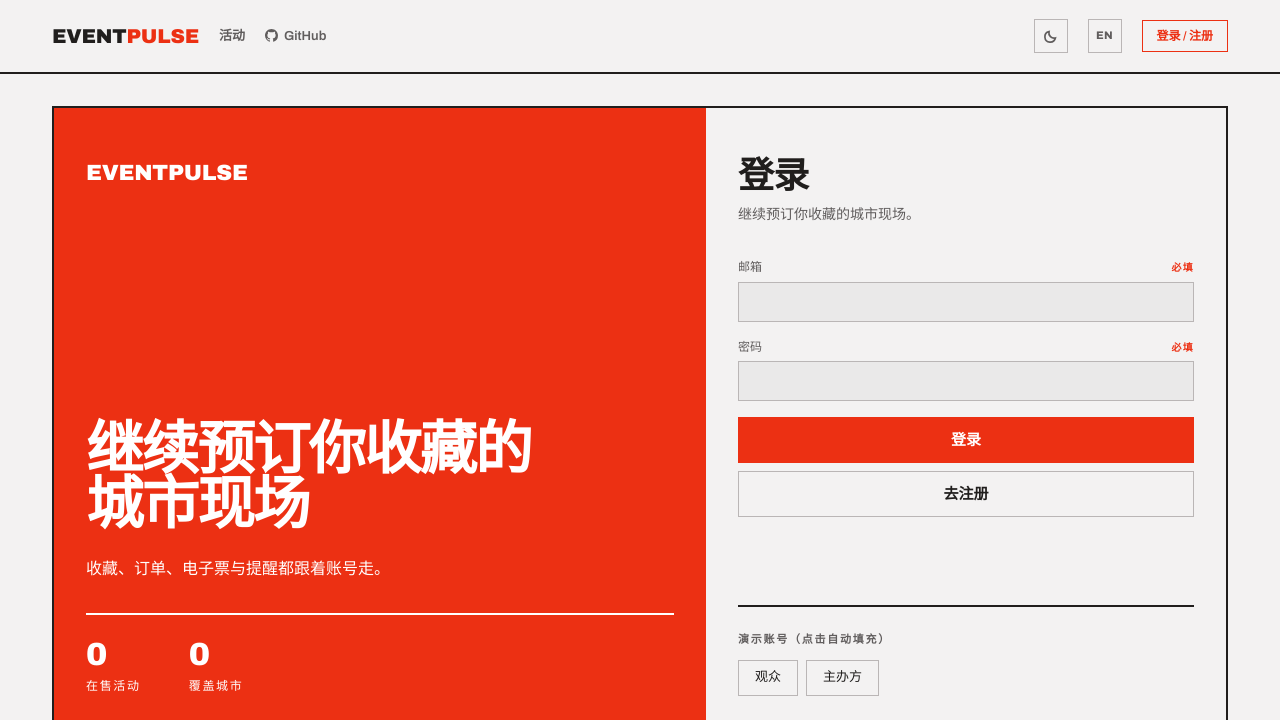
it: App pages › toggles login to register
Check: the heading "登录" is shown, box [738,156,809,196]
Click the button "去注册" at (966,494), box [738,471,1194,517]
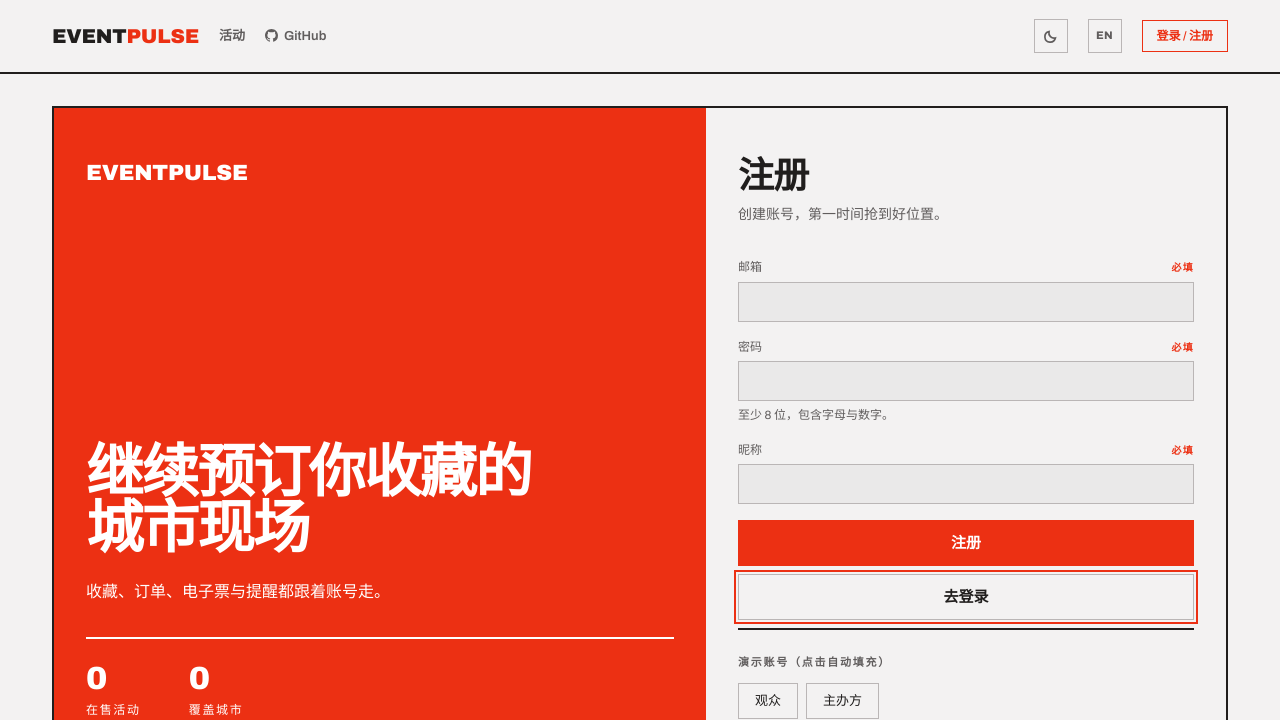
Check: the heading "注册" is shown, box [738,156,809,196]
